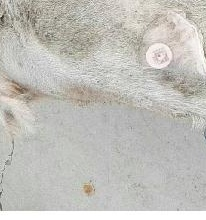text: (135, 31, 180, 79)
